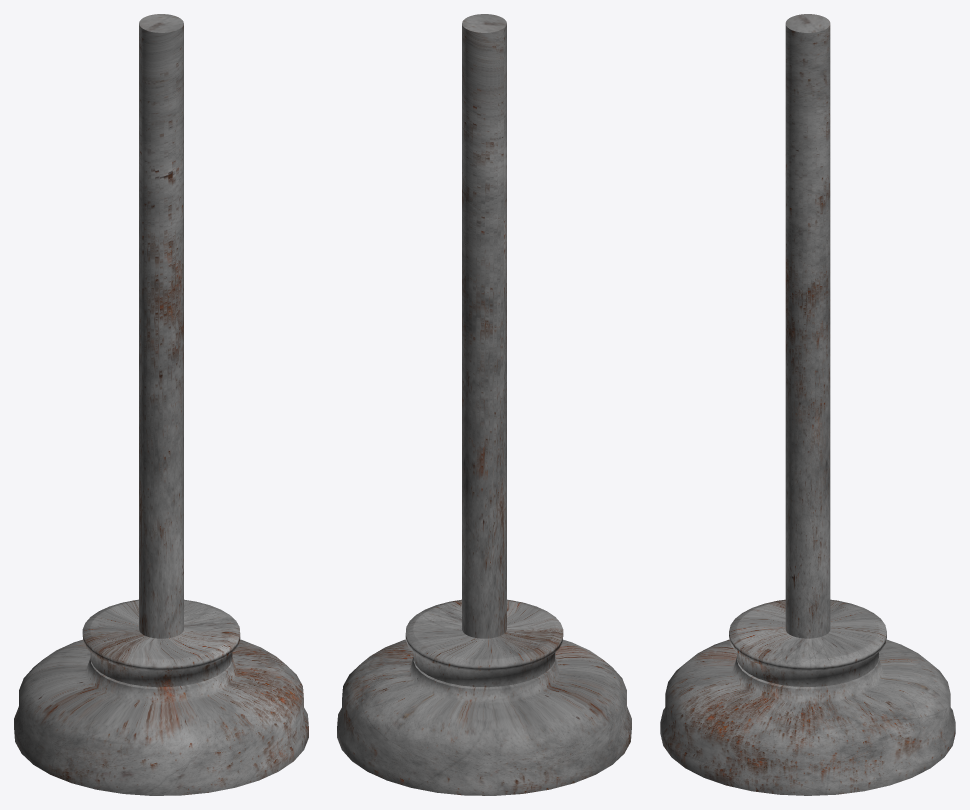
Rendered from LuzTechoColgante.fbx.
3 views of the same model, side by side, from view 1: azimuth 30°, elevation 25°; view 2: azimuth 150°, elevation 25°; view 3: azimuth 270°, elevation 25° (orthographic).
Visible parts, largest first — view 1: Luz_Techo; view 2: Luz_Techo; view 3: Luz_Techo.
Part boxes in pixels (bbox=[...]): Luz_Techo: bbox=[14, 14, 308, 795]; Luz_Techo: bbox=[337, 14, 631, 795]; Luz_Techo: bbox=[660, 14, 955, 795].
Bounding box in the file's own units: 135 × 359 × 135.
2 materials, 1 textured.
